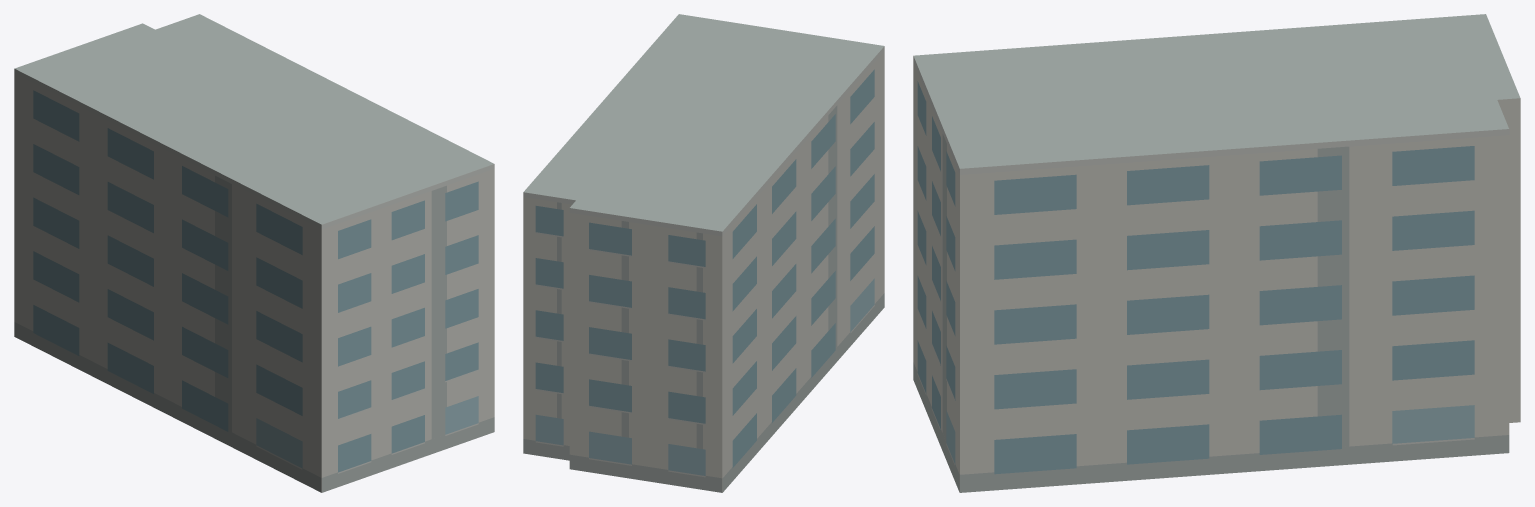
The model's file is survey-upis-32987185.glb.
3 views of the same model, side by side, from view 1: azimuth 30°, elevation 25°; view 2: azimuth 150°, elevation 25°; view 3: azimuth 270°, elevation 25° (orthographic). The views are drawn at different scales.
Visible parts, largest first — view 1: survey-upis-32987185.tmp; view 2: survey-upis-32987185.tmp; view 3: survey-upis-32987185.tmp.
Part boxes in pixels (x1,y1,x2,y2): survey-upis-32987185.tmp: (14,14,494,492); survey-upis-32987185.tmp: (523,14,884,492); survey-upis-32987185.tmp: (913,14,1520,492).
Bounding box in the file's own units: 13.64 × 13.3 × 22.59.
